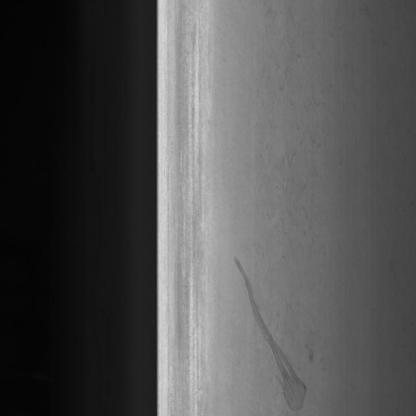silk_spot: (251, 27, 327, 266)
water_spot: (228, 245, 323, 416)
